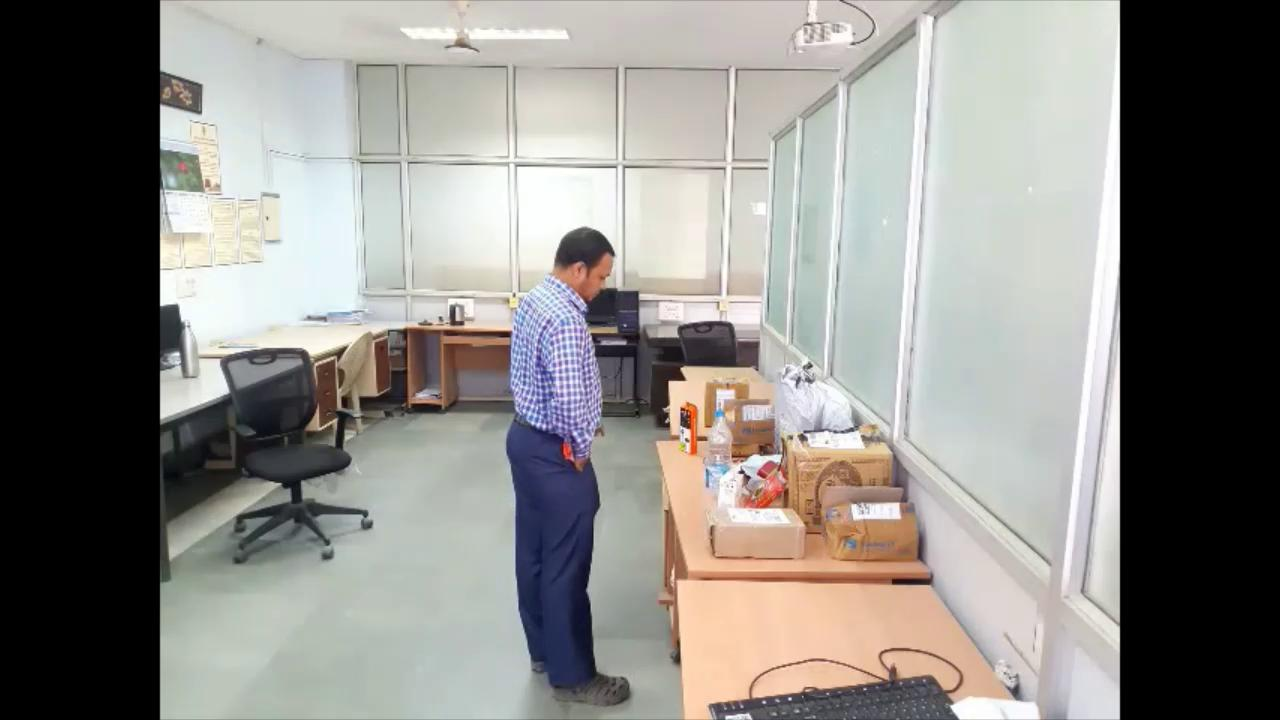shoplifting: (494, 222, 637, 720)
